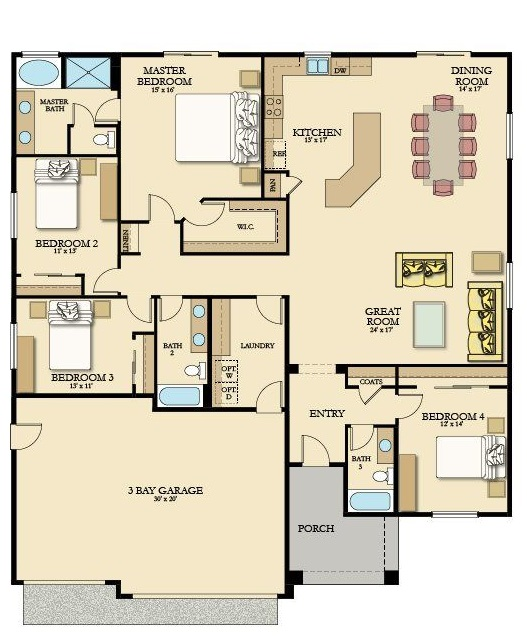door: (298, 430, 332, 461), (16, 420, 46, 454), (145, 190, 174, 217), (158, 302, 187, 329), (123, 301, 152, 328), (88, 267, 117, 294), (67, 97, 96, 124), (254, 378, 283, 405), (254, 303, 283, 330), (92, 96, 116, 123), (402, 391, 425, 419), (353, 388, 381, 408), (348, 430, 371, 452), (289, 173, 306, 196)
room: (283, 51, 512, 368), (261, 53, 512, 220), (116, 52, 267, 202), (394, 363, 513, 519), (8, 293, 157, 399), (8, 294, 158, 398), (10, 51, 122, 157), (8, 49, 120, 155), (12, 51, 124, 157), (204, 293, 289, 414), (151, 293, 214, 411), (179, 197, 291, 256), (342, 422, 400, 519)
wall: (116, 121, 121, 267), (10, 450, 15, 578), (207, 296, 212, 411), (506, 160, 511, 263), (285, 412, 288, 576), (507, 162, 512, 260), (344, 512, 427, 517), (394, 419, 398, 518), (332, 53, 416, 57), (218, 52, 299, 56), (12, 239, 16, 320), (152, 407, 255, 410), (60, 53, 118, 58), (344, 425, 347, 518), (507, 54, 511, 114), (286, 569, 302, 583), (180, 252, 288, 254), (286, 198, 289, 254), (285, 572, 291, 599), (479, 512, 510, 517), (119, 220, 148, 224), (12, 156, 15, 191), (382, 385, 416, 388), (105, 579, 121, 585), (180, 221, 183, 251), (490, 385, 512, 389), (67, 125, 70, 153), (396, 366, 399, 394), (261, 171, 288, 174), (116, 593, 132, 598), (345, 366, 348, 389), (329, 462, 345, 466), (11, 579, 22, 584), (116, 580, 119, 598), (278, 595, 293, 598), (118, 252, 138, 254), (286, 463, 301, 465)
window: (159, 47, 220, 61), (412, 47, 476, 60), (7, 320, 20, 372), (503, 110, 516, 162), (503, 258, 516, 310), (6, 188, 19, 240), (18, 48, 62, 61), (429, 508, 480, 519), (299, 47, 335, 60)
